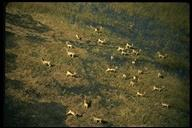antelope: (90, 113, 104, 125), (156, 49, 168, 62), (65, 69, 78, 80), (64, 108, 78, 118), (40, 57, 52, 68), (65, 49, 76, 60), (134, 90, 147, 99), (105, 65, 118, 74), (82, 98, 91, 110), (151, 84, 163, 93), (159, 101, 170, 110), (96, 37, 107, 46), (128, 79, 137, 88), (65, 41, 75, 49), (131, 49, 141, 57)
grass: (52, 4, 188, 30)
